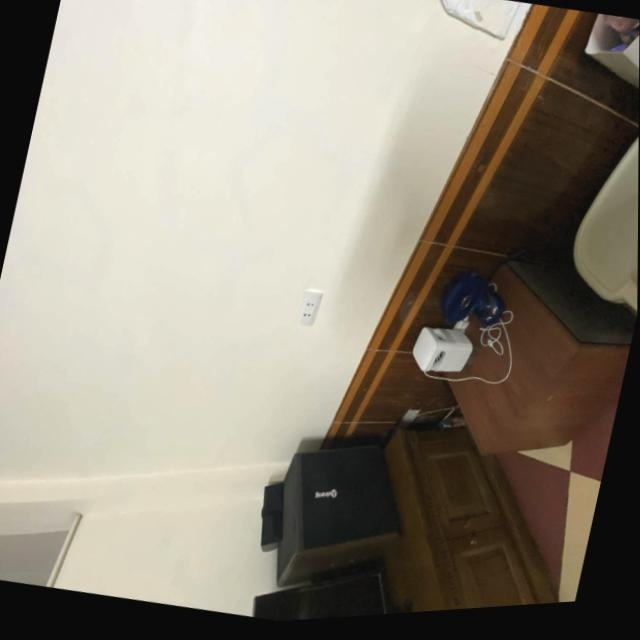outlet: (294, 286, 323, 328)
